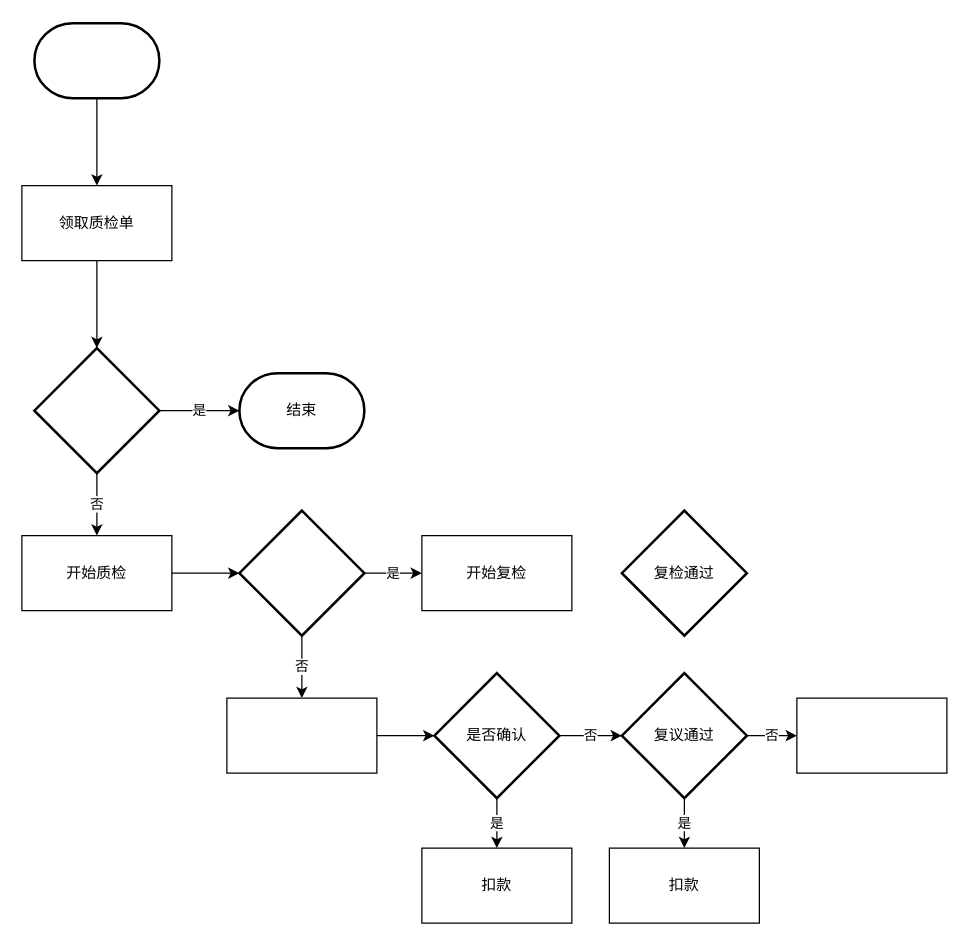
The diagram is 969 pixels wide and 945 high, and some of its shapes have lost their labels. Each missing label, with the centre of its shape:
修改标签: the point at 301,735
开始: the point at 96,60
是否领取: the point at 96,410
返回退款: the point at 871,735
通过: the point at 301,572
